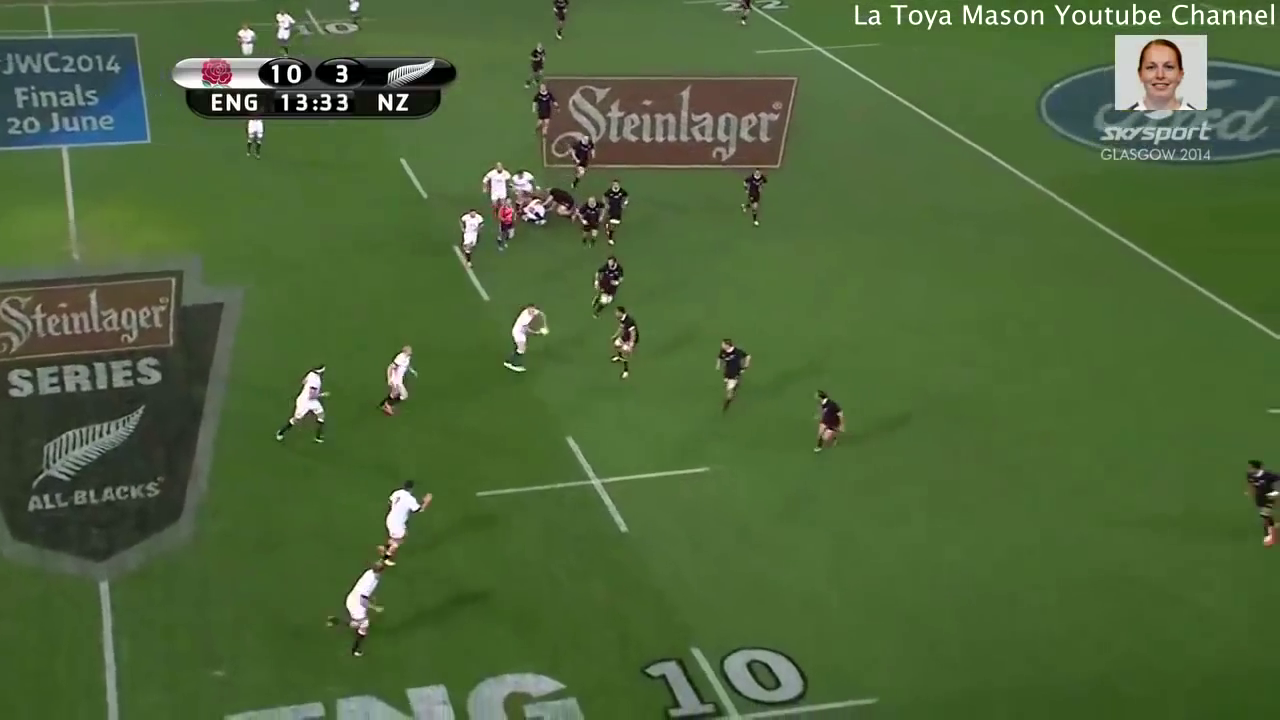10_metre: (470, 431, 718, 544), (629, 638, 879, 720), (255, 5, 375, 40)
ball: (537, 323, 551, 337)
player: (321, 556, 392, 666), (373, 470, 434, 576), (266, 360, 334, 449), (493, 296, 554, 378), (1233, 450, 1280, 552), (802, 386, 850, 458), (709, 335, 753, 413), (375, 344, 420, 419), (605, 304, 642, 386), (586, 254, 627, 320), (737, 161, 773, 228), (600, 179, 633, 251), (560, 127, 595, 193), (573, 190, 607, 255), (457, 205, 487, 272), (521, 36, 553, 96), (477, 158, 514, 209), (527, 80, 556, 144), (491, 196, 518, 252), (541, 185, 577, 220), (270, 6, 295, 56), (546, 1, 574, 45), (241, 119, 269, 161), (232, 22, 259, 55), (731, 1, 760, 29), (509, 168, 538, 196), (343, 1, 364, 26)
